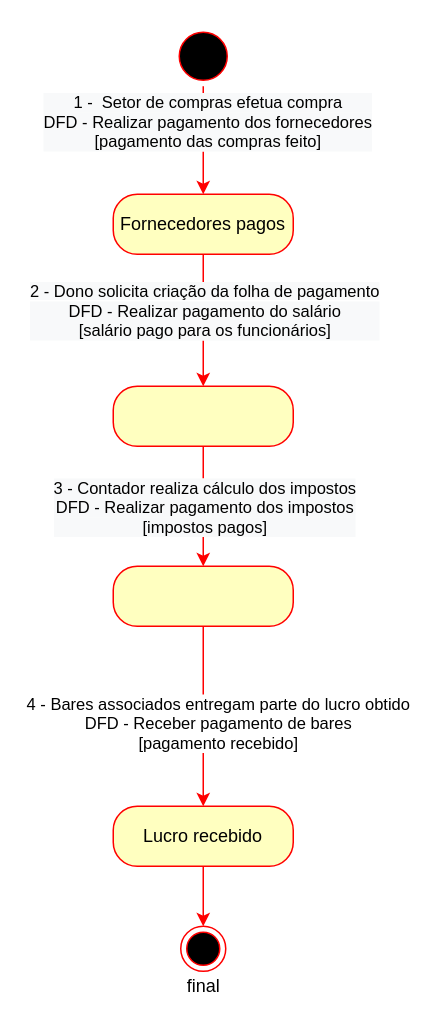
Image size: 435x1028. Some labels were removed from this diagram. The box of each missing label's shape, as (x1, y1, x2, y2) in pixels:
Funcionarios pagos: (112, 385, 293, 446)
impostos pagos: (112, 565, 293, 626)
